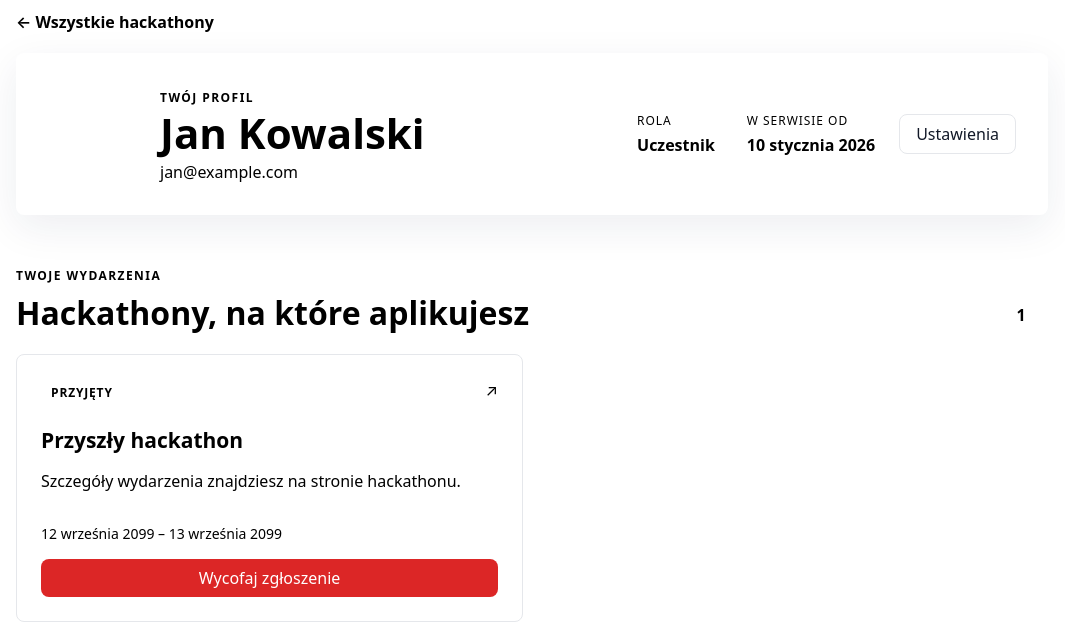
Scenario: ProfilePage › withdraws an upcoming hackathon from the profile card
Click the button "Wycofaj zgłoszenie". click: (270, 578)
box: [41,559,498,597]
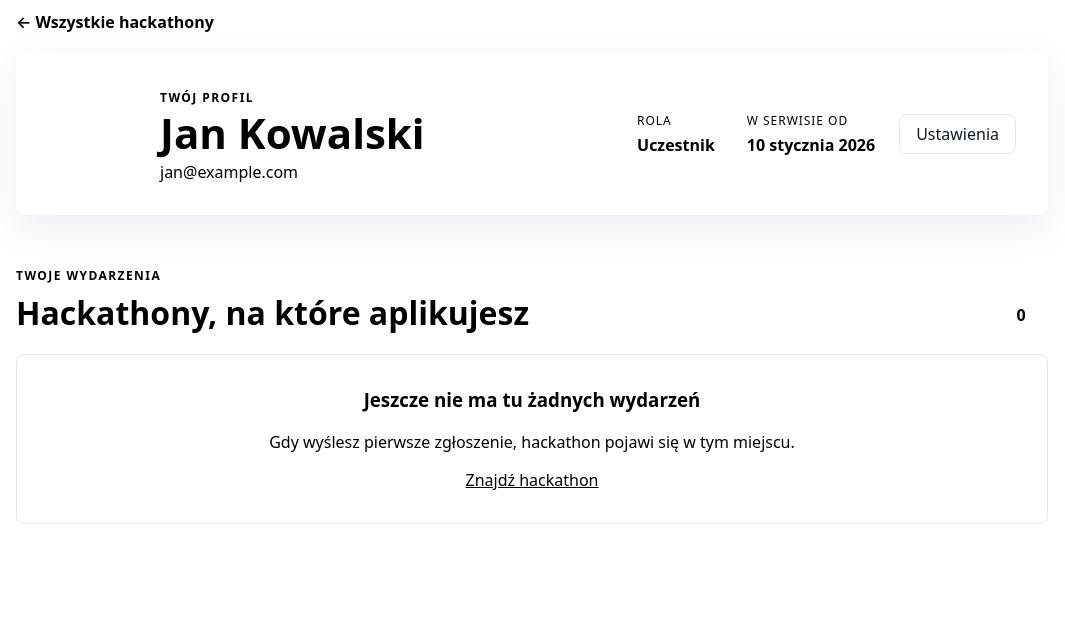
Check: the link "Przyszły hackathon" is gone
